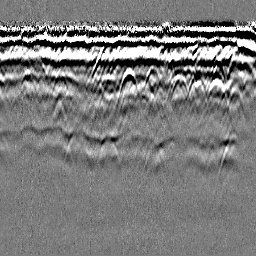cavity: (113, 66, 141, 112)
